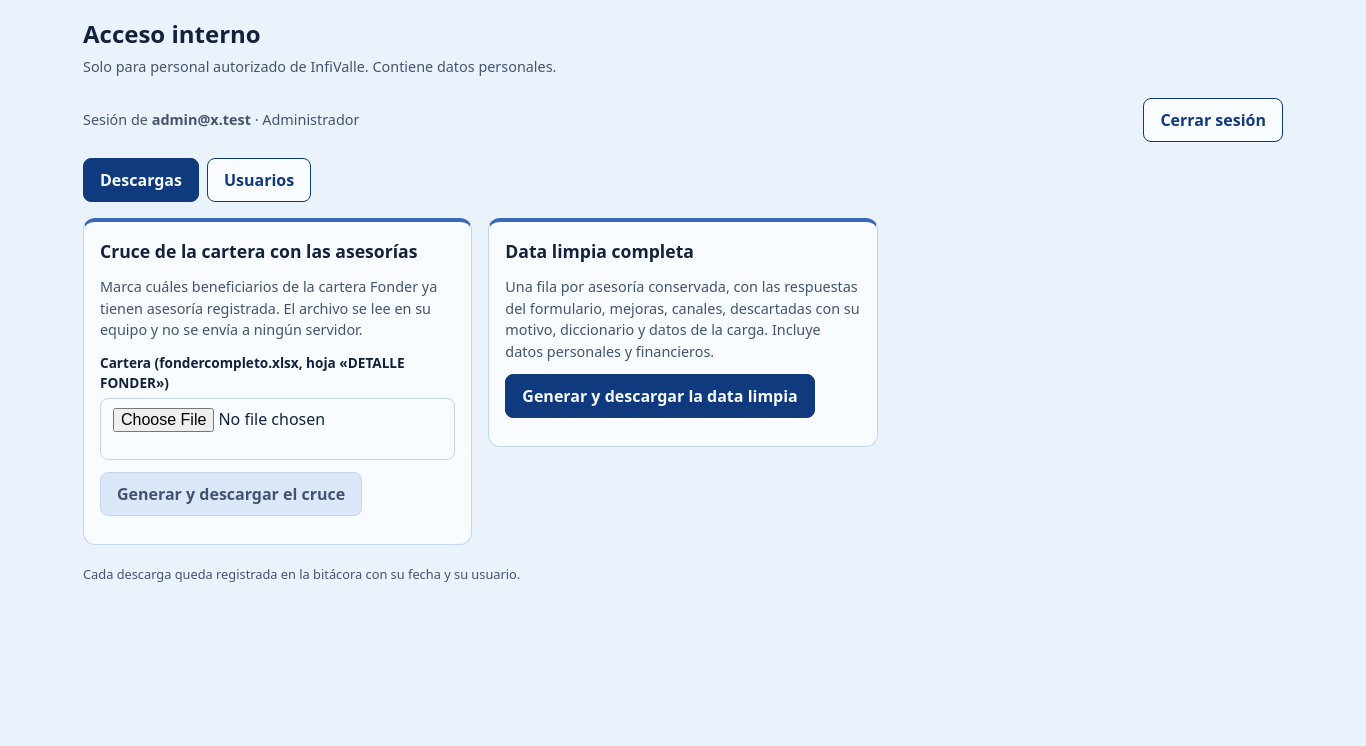
Test case: Panel de usuarios › crear muestra la contraseña temporal una sola vez y se puede ocultar
Click the button "Usuarios" at (259,180), box [207,158,311,202]
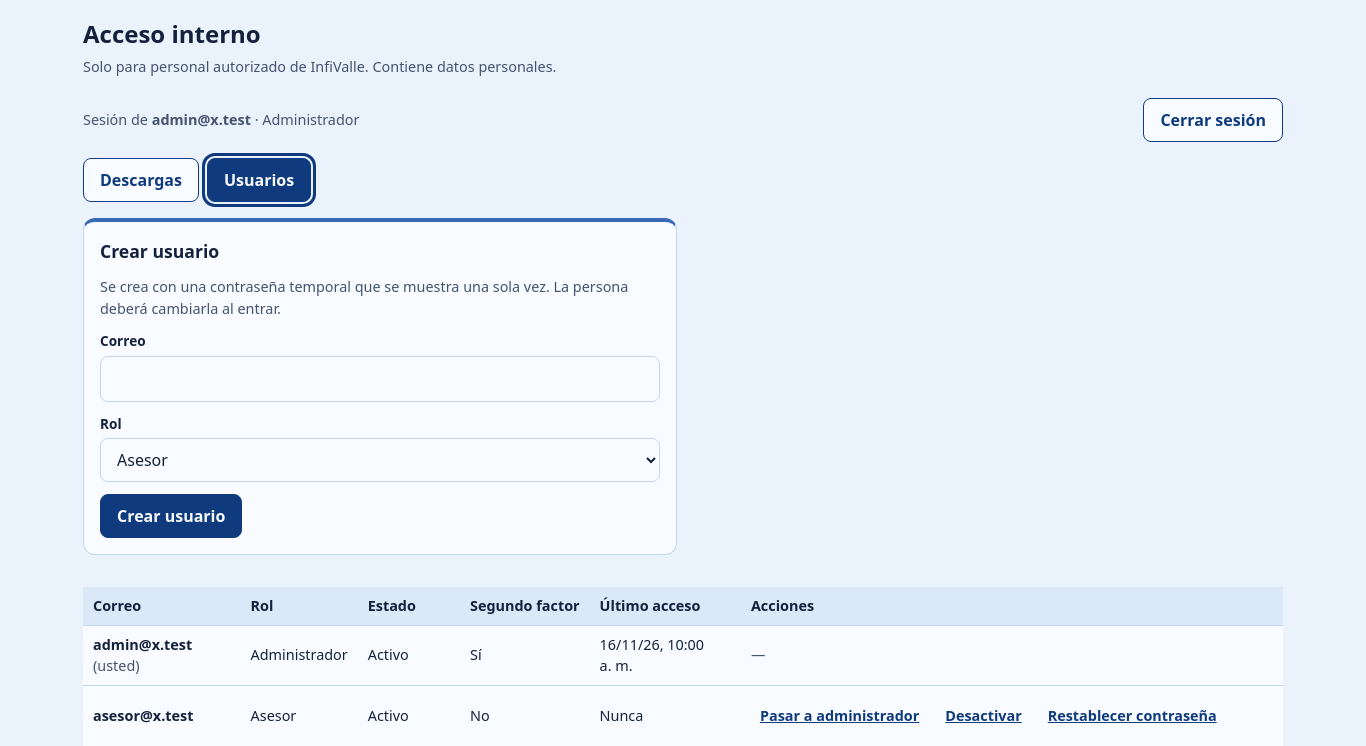
Type "nuevo@x.test" into the field labelled "Correo" at (380,379), box [100,356,660,402]
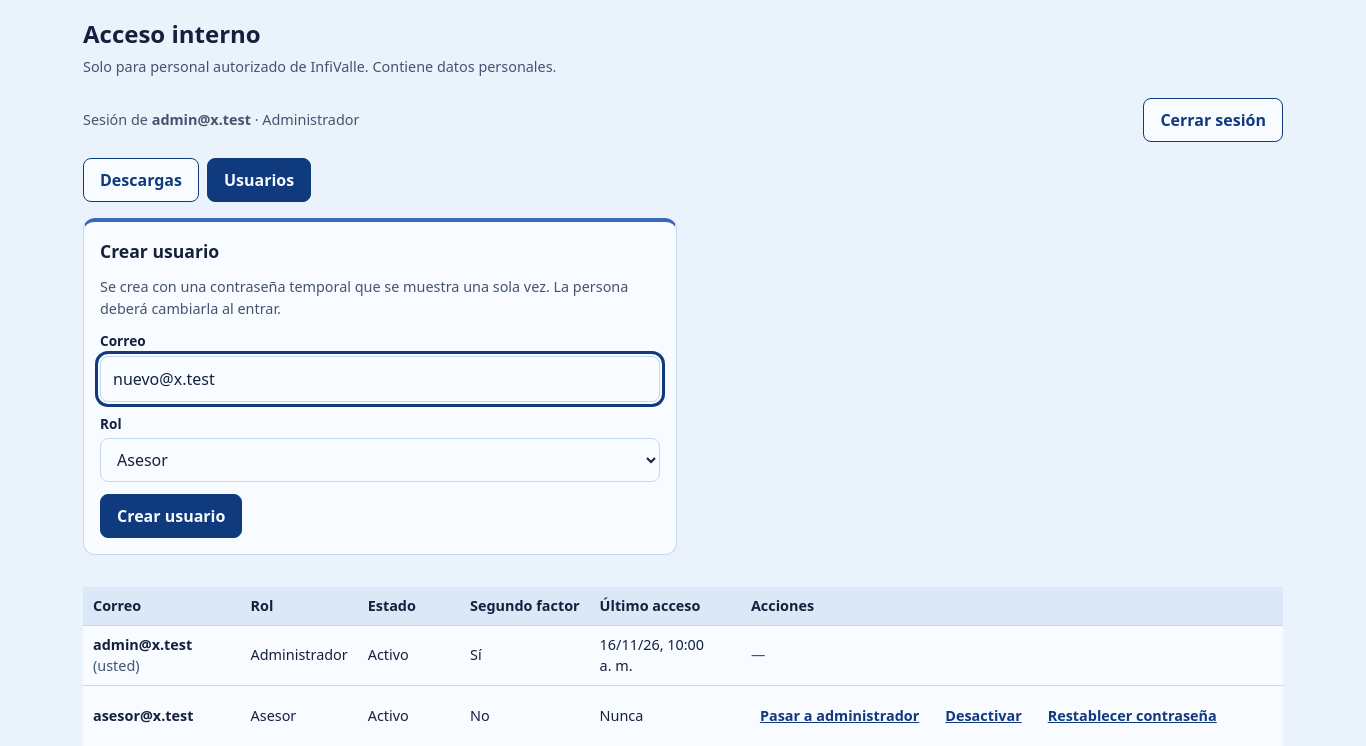
Select "Administrador" in the dropdown labelled "Rol" at (380,460), box [100,438,660,482]
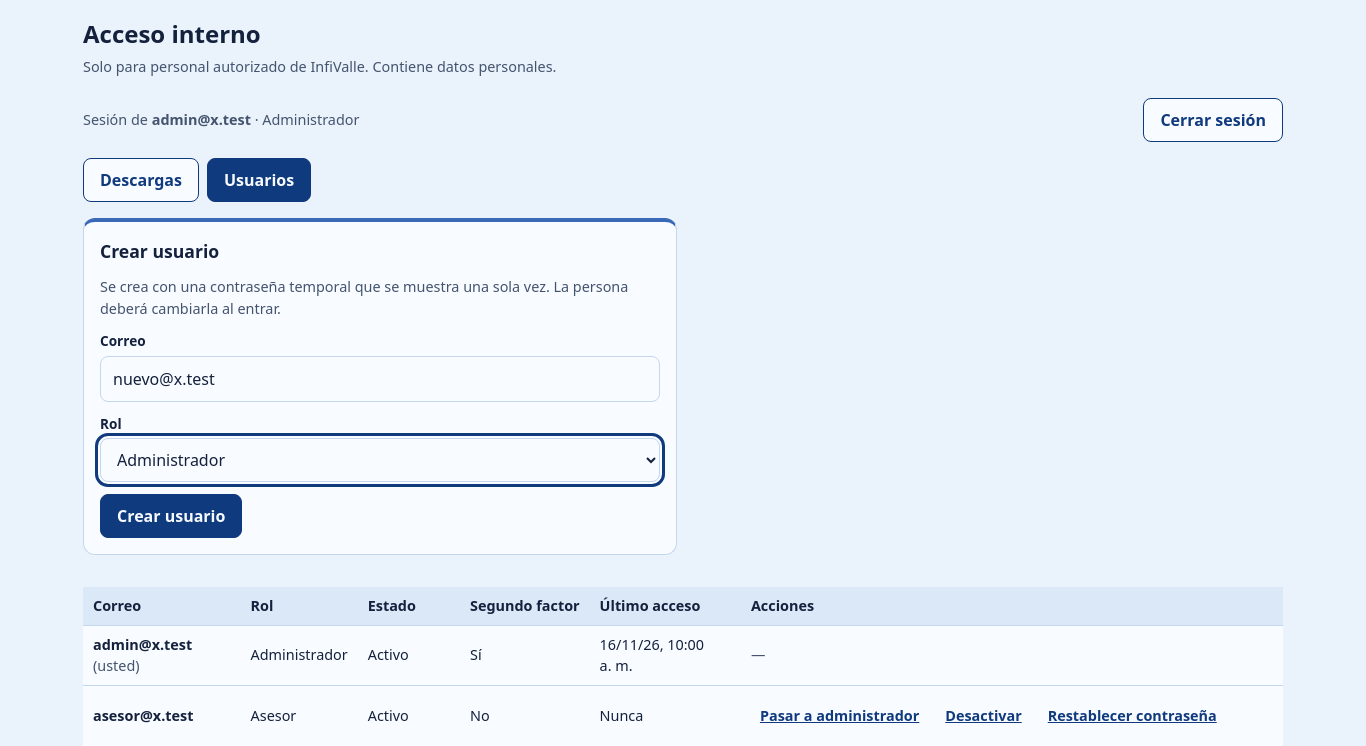
Click the button "Crear usuario" at (171,516), box [100,494,242,538]
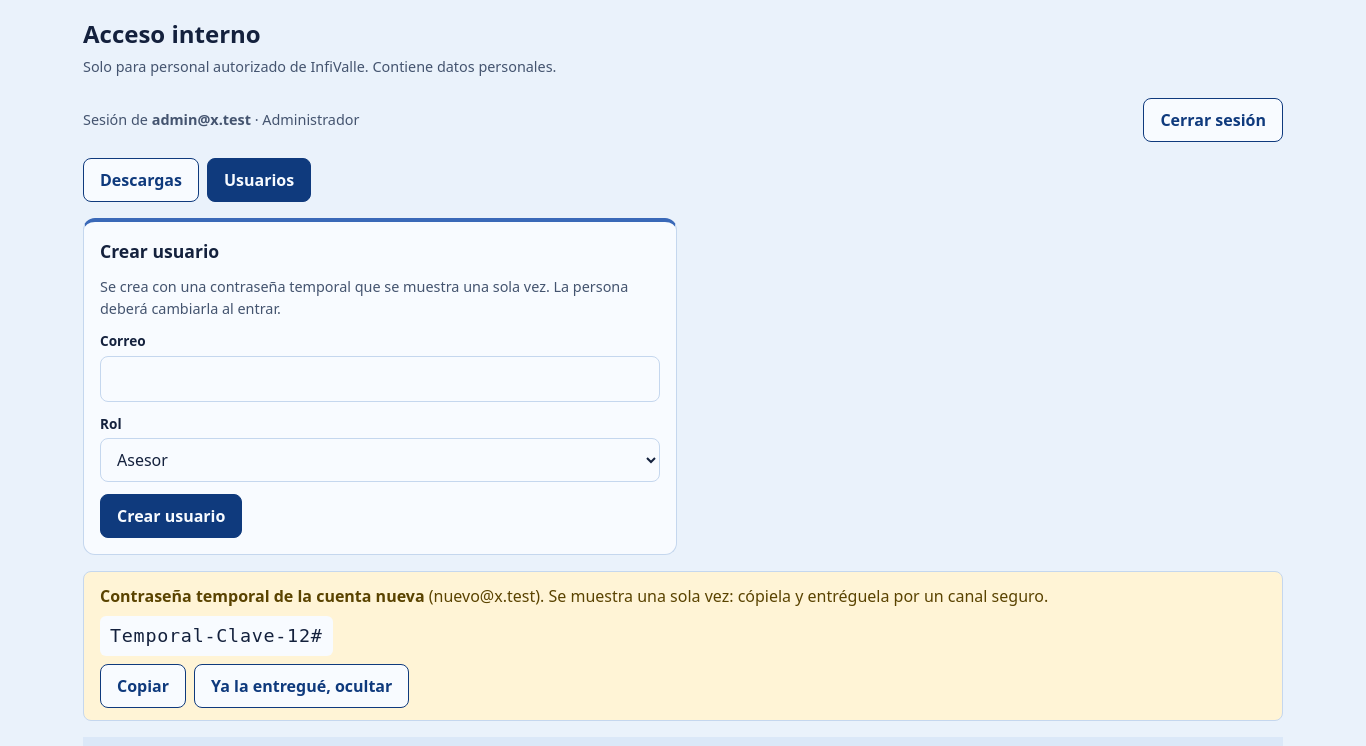
Expected: the text "Temporal-Clave-12#" is shown, [100,616,332,656]
Click the button "Ya la entregué, ocultar" at (302,686), box [194,664,409,708]
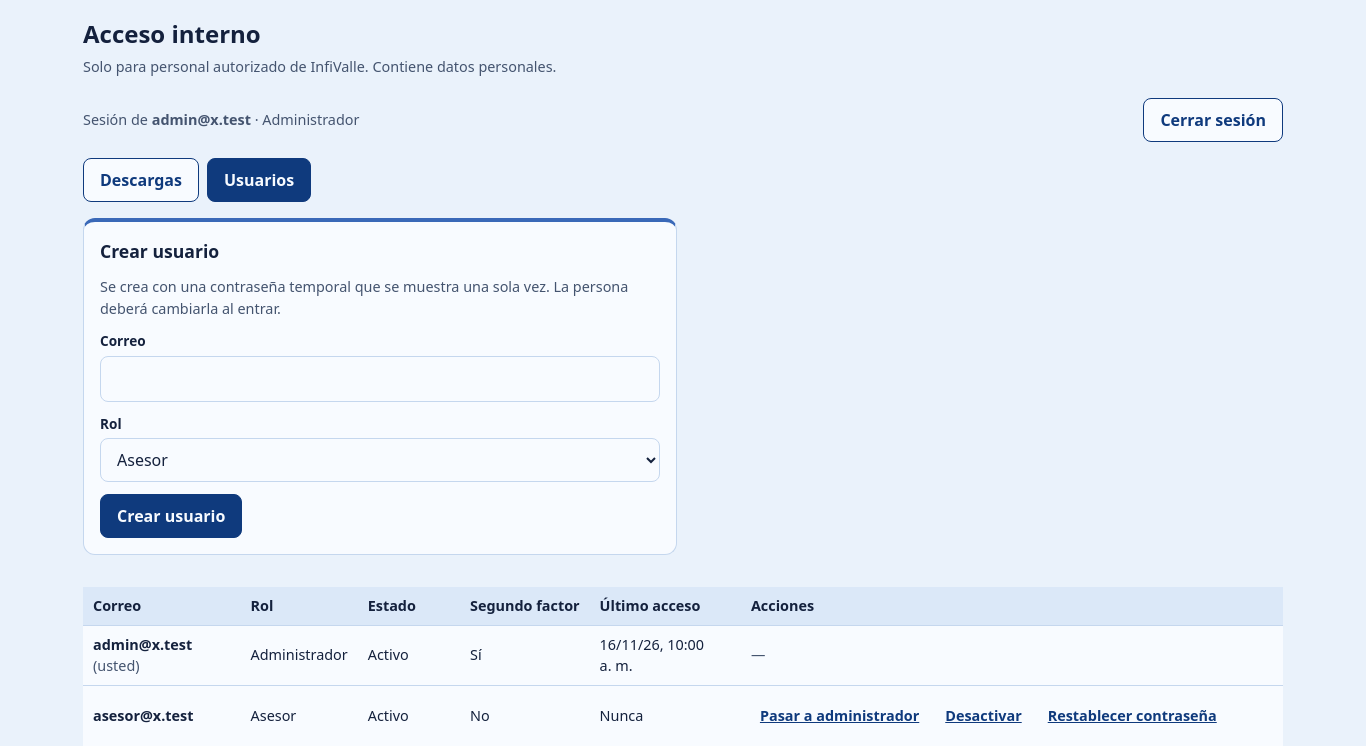
Expected: the text "Temporal-Clave-12#" is gone
